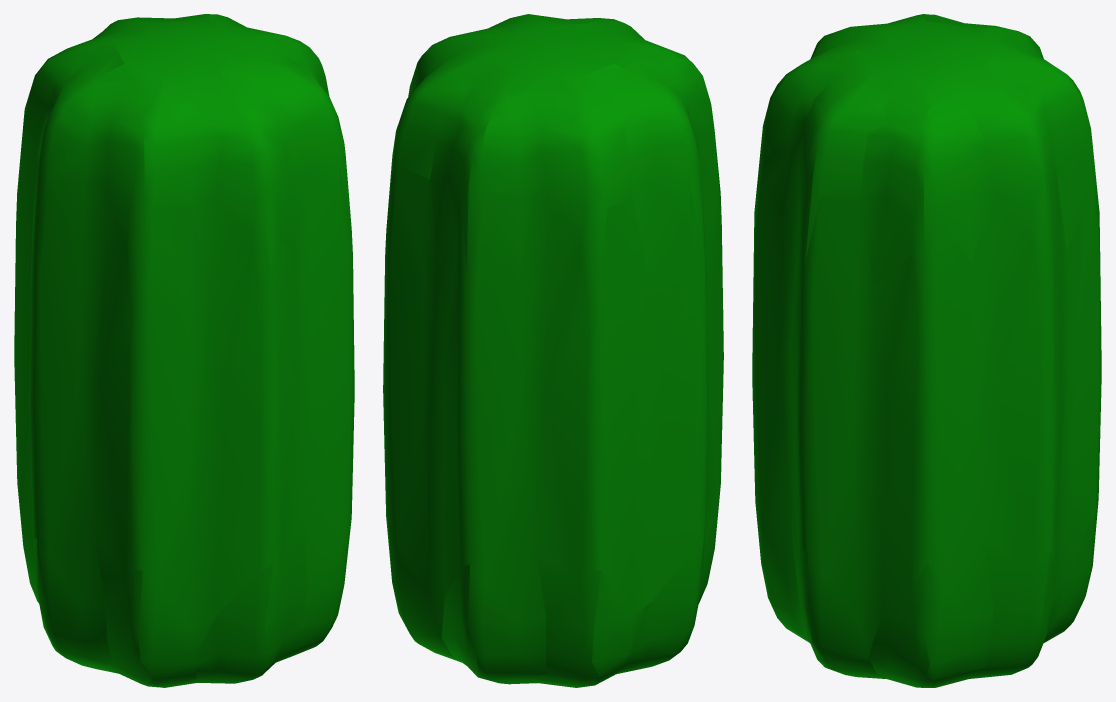
Rendered from Cactus2.fbx.
The picture shows the model from 3 angles, left to right: view 1: azimuth 30°, elevation 25°; view 2: azimuth 150°, elevation 25°; view 3: azimuth 270°, elevation 25°; orthographic projection.
Visible parts, largest first — view 1: Cactus_lowpoly:Mesh; view 2: Cactus_lowpoly:Mesh; view 3: Cactus_lowpoly:Mesh.
Part boxes in pixels (box(x1,y1,x2,y2)): Cactus_lowpoly:Mesh: box(14, 14, 354, 687); Cactus_lowpoly:Mesh: box(383, 14, 723, 687); Cactus_lowpoly:Mesh: box(752, 14, 1101, 687).
Bounding box in the file's own units: 6.95 × 13.43 × 6.94.
